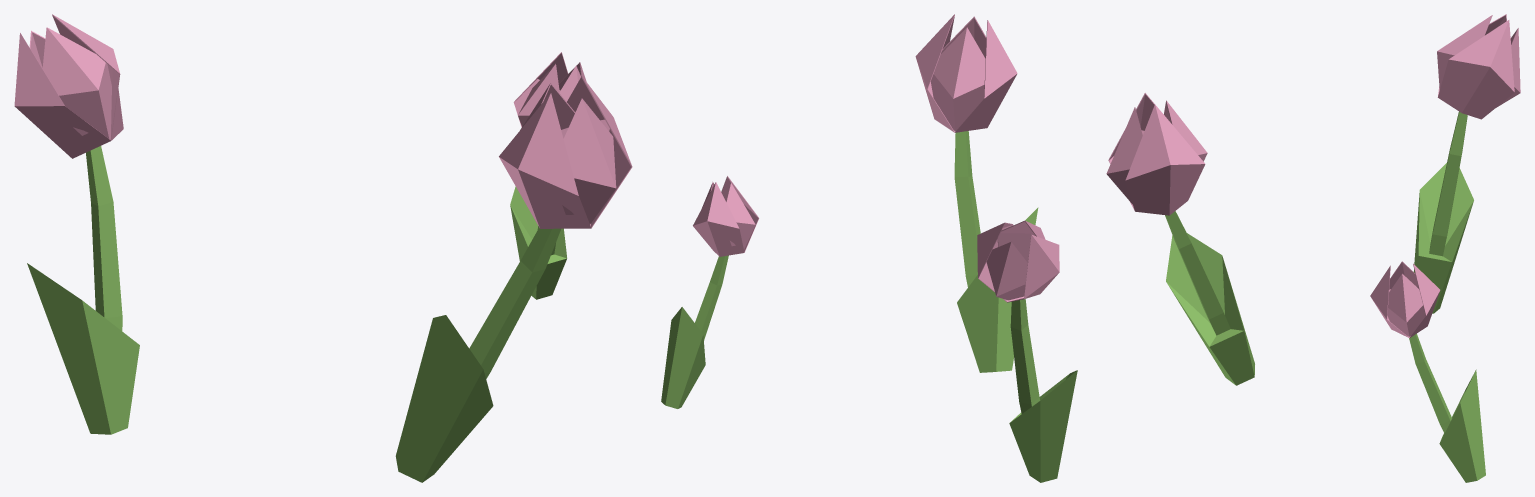
File: FlowerPink03.fbx
The picture shows the model from 3 angles, left to right: view 1: azimuth 30°, elevation 25°; view 2: azimuth 150°, elevation 25°; view 3: azimuth 270°, elevation 25°; orthographic projection. The views are drawn at different scales.
Visible parts, largest first — view 1: Circle.502; view 2: Circle.502; view 3: Circle.502.
Part boxes in pixels (bbox=[...]): Circle.502: bbox=[14, 14, 632, 482]; Circle.502: bbox=[661, 14, 1077, 482]; Circle.502: bbox=[1106, 14, 1520, 482].
Size of the model in its own units: 69.37 by 50.97 by 60.39.
